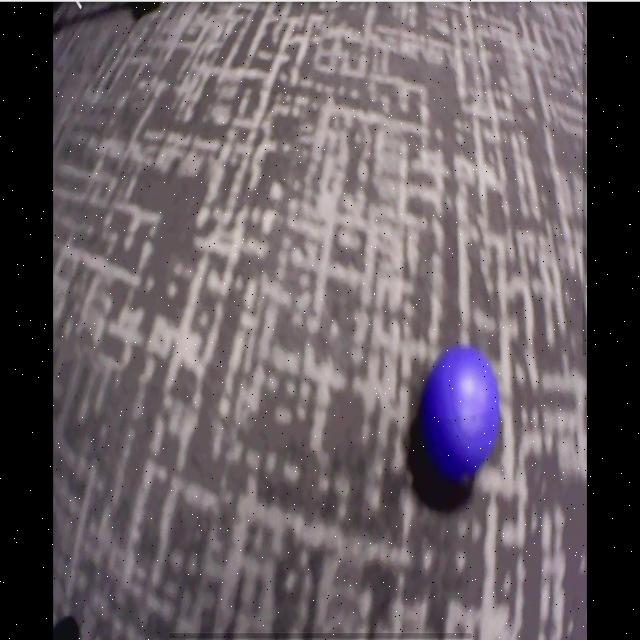ball: (423, 349, 500, 473)
